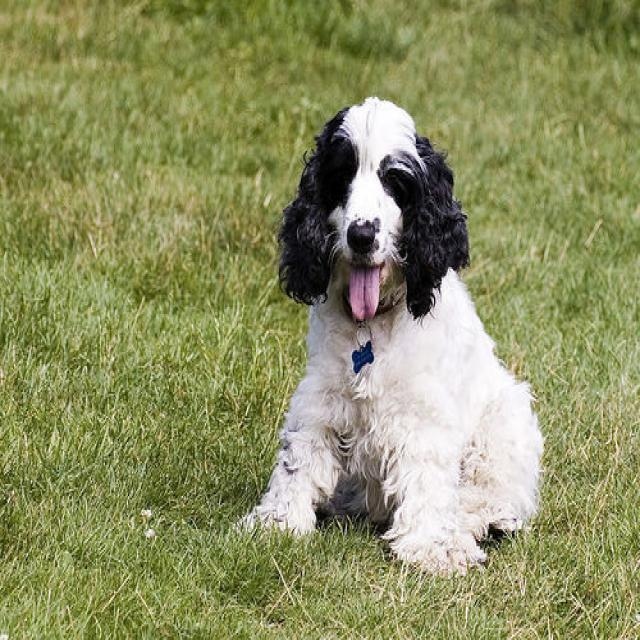dog-english_cocker_spaniel: (239, 82, 545, 584)
